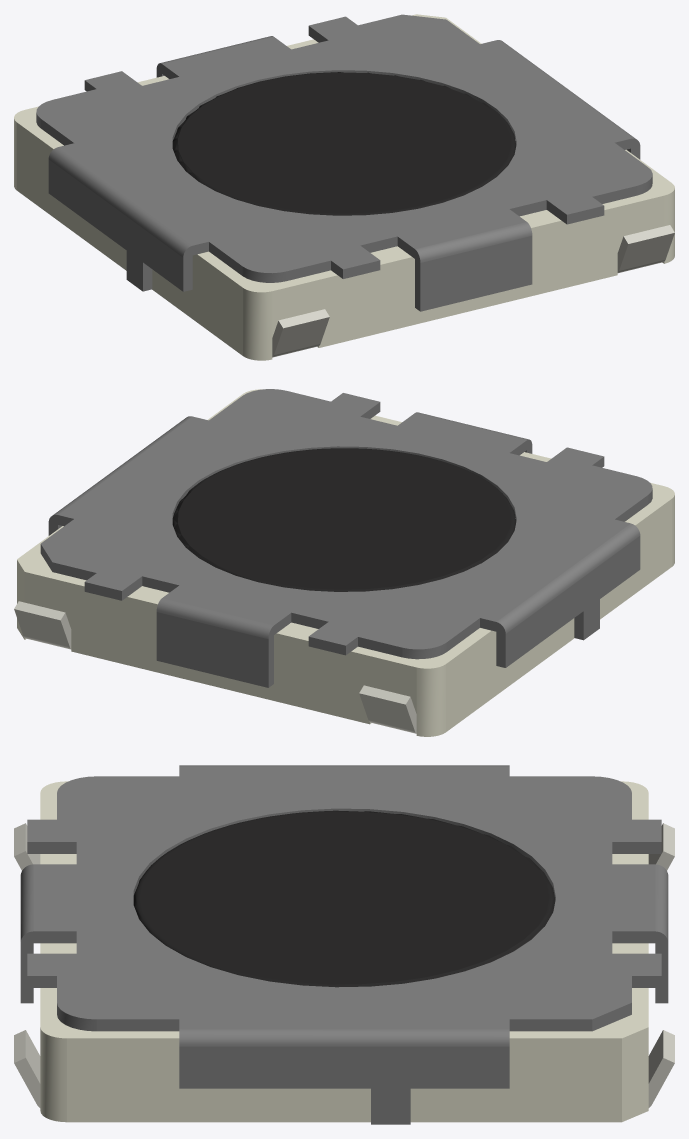
File: kc-sw_spst_panasonic_evqpl_3pl_5pl_pt_a08.glb
3 renders of one model, top to bottom at view 1: azimuth 30°, elevation 25°; view 2: azimuth 150°, elevation 25°; view 3: azimuth 270°, elevation 25°, orthographic. The views are drawn at different scales.
Parts seen in each view (by area): view 1: 0.25_0.25_0.25_0, 0_0_0_0, 0.75_0.75_0.6666666666666666_0, 0.6666666666666666_0.6666666666666666_0.5833333333333334_0.8; view 2: 0.25_0.25_0.25_0, 0_0_0_0, 0.75_0.75_0.6666666666666666_0, 0.6666666666666666_0.6666666666666666_0.5833333333333334_0.8; view 3: 0.25_0.25_0.25_0, 0_0_0_0, 0.75_0.75_0.6666666666666666_0, 0.6666666666666666_0.6666666666666666_0.5833333333333334_0.8.
Boxes of the visible parts, <box> form: 0.25_0.25_0.25_0: <box>36,14,652,311</box>; 0_0_0_0: <box>172,72,516,215</box>; 0.75_0.75_0.6666666666666666_0: <box>14,14,674,360</box>; 0.6666666666666666_0.6666666666666666_0.5833333333333334_0.8: <box>272,225,674,357</box>; 0.25_0.25_0.25_0: <box>40,389,652,687</box>; 0_0_0_0: <box>172,448,516,591</box>; 0.75_0.75_0.6666666666666666_0: <box>17,389,674,736</box>; 0.6666666666666666_0.6666666666666666_0.5833333333333334_0.8: <box>14,601,416,733</box>; 0.25_0.25_0.25_0: <box>20,765,668,1124</box>; 0_0_0_0: <box>133,810,555,987</box>; 0.75_0.75_0.6666666666666666_0: <box>40,781,648,1122</box>; 0.6666666666666666_0.6666666666666666_0.5833333333333334_0.8: <box>14,823,674,1107</box>.
Bounding box in the file's own units: 0.49 × 0.08 × 0.5.
